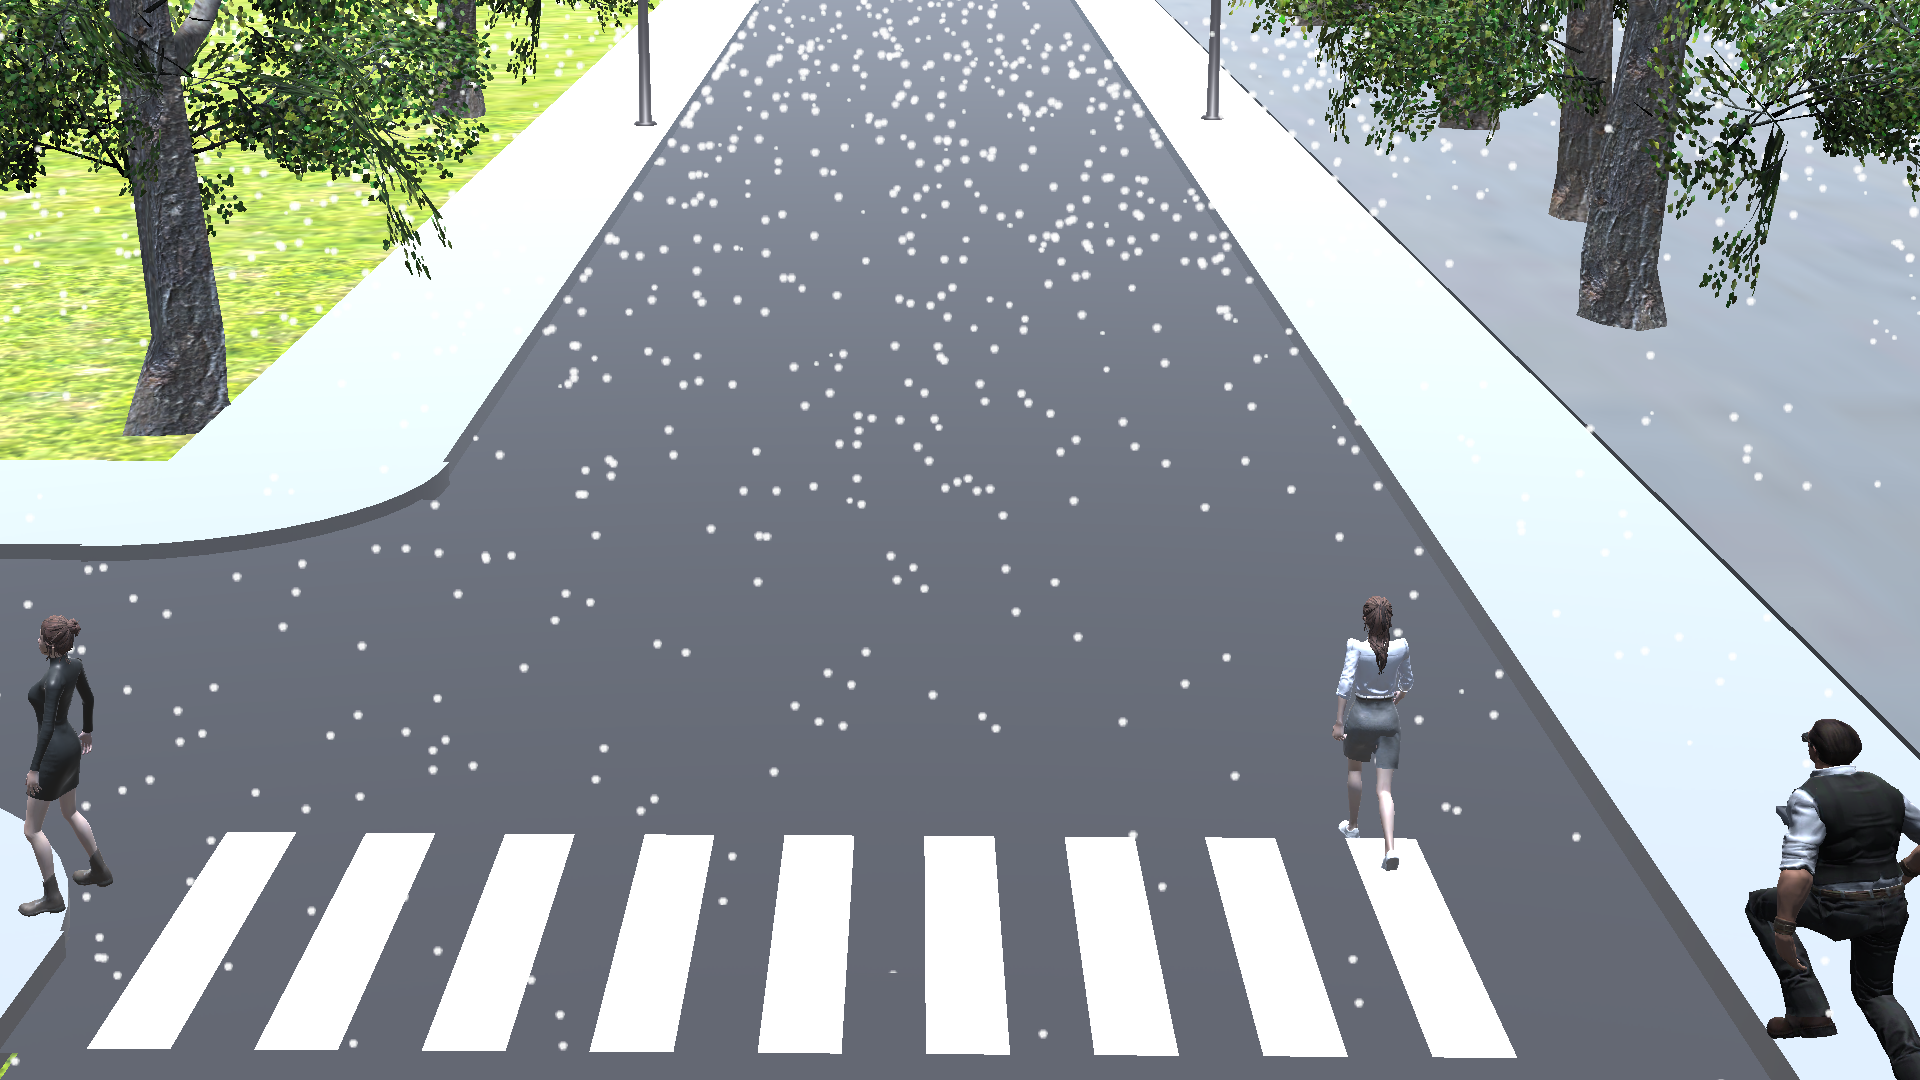pedestrian: (1736, 706, 1920, 1080), (1, 598, 136, 926), (1317, 587, 1419, 879)
